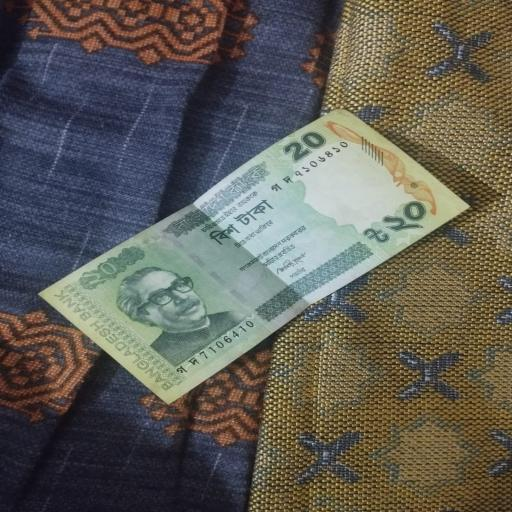20taka: (38, 109, 473, 406)
